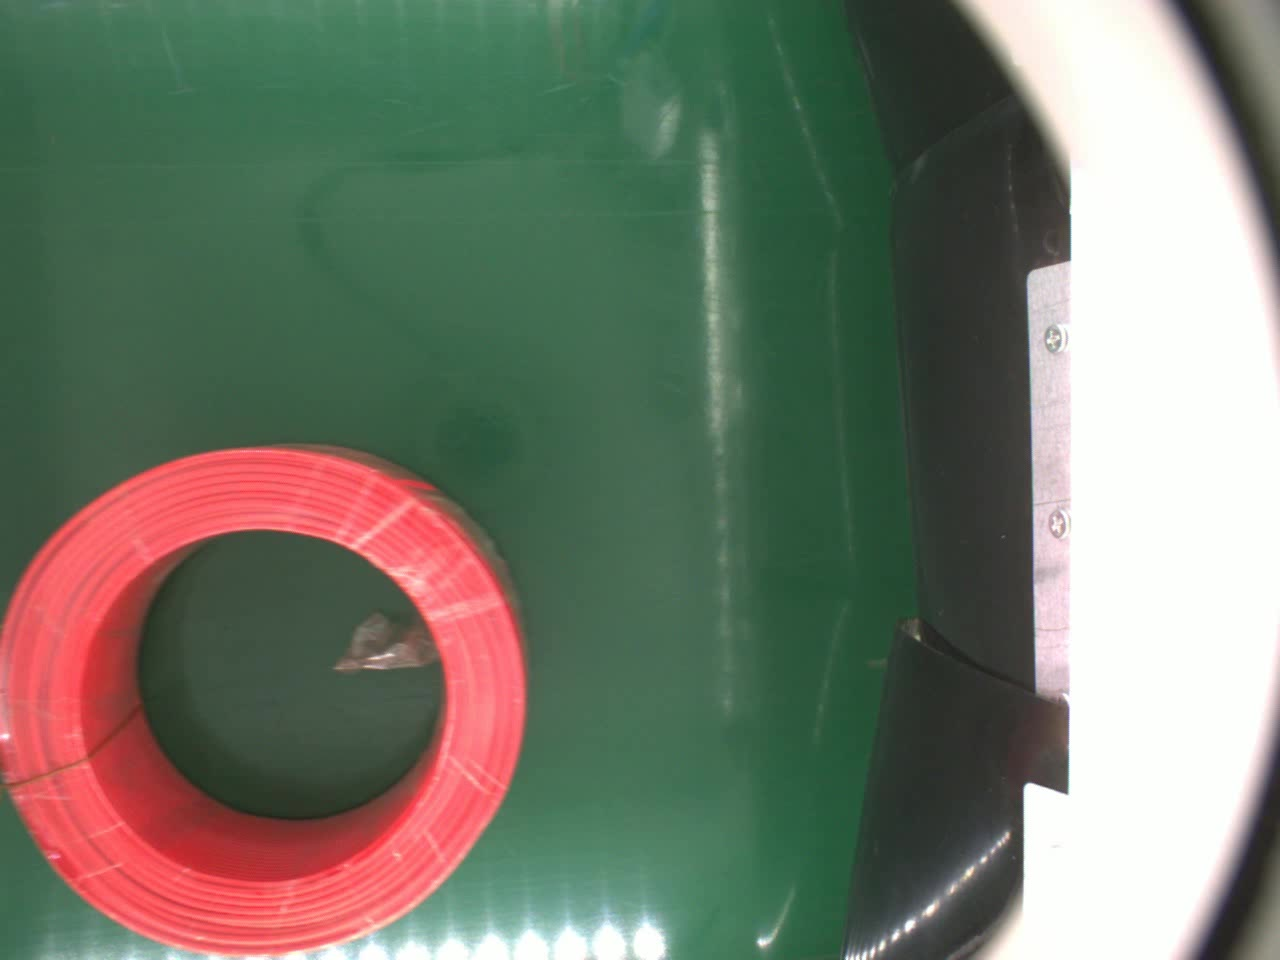red: (0, 439, 529, 956)
